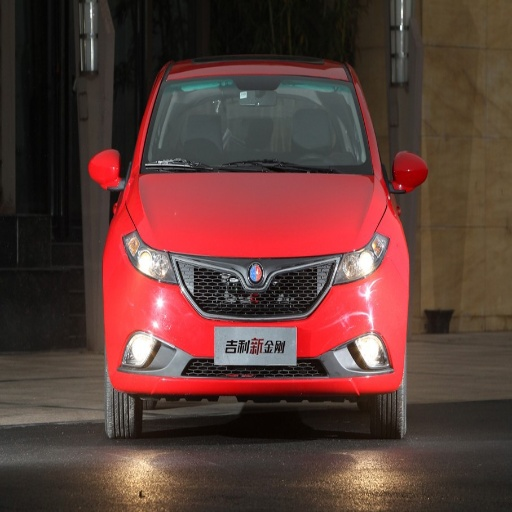front_bumper: (109, 253, 403, 396)
front_right_light: (123, 231, 177, 283)
hood: (126, 176, 386, 257)
left_mirror: (391, 151, 428, 194)
